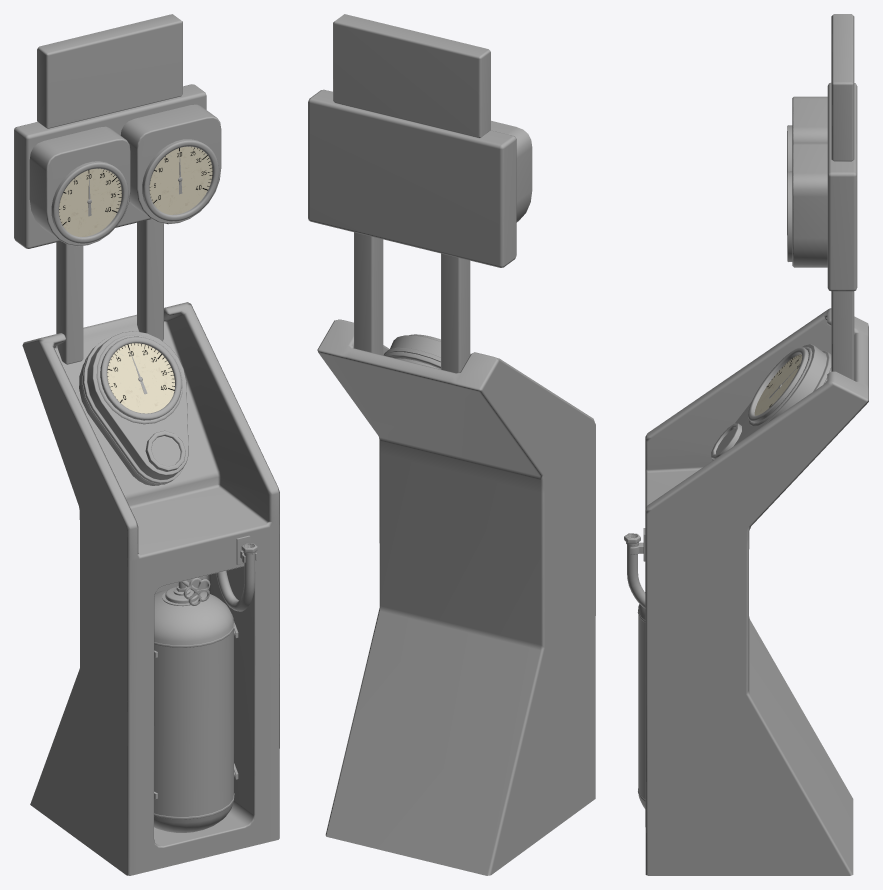
File: OxygenAutomat.fbx
3 renders of one model, left to right at view 1: azimuth 30°, elevation 25°; view 2: azimuth 150°, elevation 25°; view 3: azimuth 270°, elevation 25°, orthographic. The views are drawn at different scales.
Visible parts, largest first — view 1: OxygenAutomat, Ballon, OxygenIndicator (×3), Cable_00; view 2: OxygenAutomat; view 3: OxygenAutomat, OxygenIndicator (×2), Ballon, Cable_00.
Boxes of the visible parts, x1,y1,x2,y2 form: OxygenAutomat: (14, 14, 279, 875); Ballon: (154, 577, 238, 832); OxygenIndicator (×3): (51, 139, 219, 420); Cable_00: (216, 543, 257, 611); OxygenAutomat: (308, 14, 595, 875); OxygenAutomat: (630, 14, 868, 875); OxygenIndicator (×2): (748, 171, 808, 422); Ballon: (637, 592, 645, 808); Cable_00: (624, 533, 645, 608).
Size of the model in its own units: 74.09 by 295 by 82.93.
